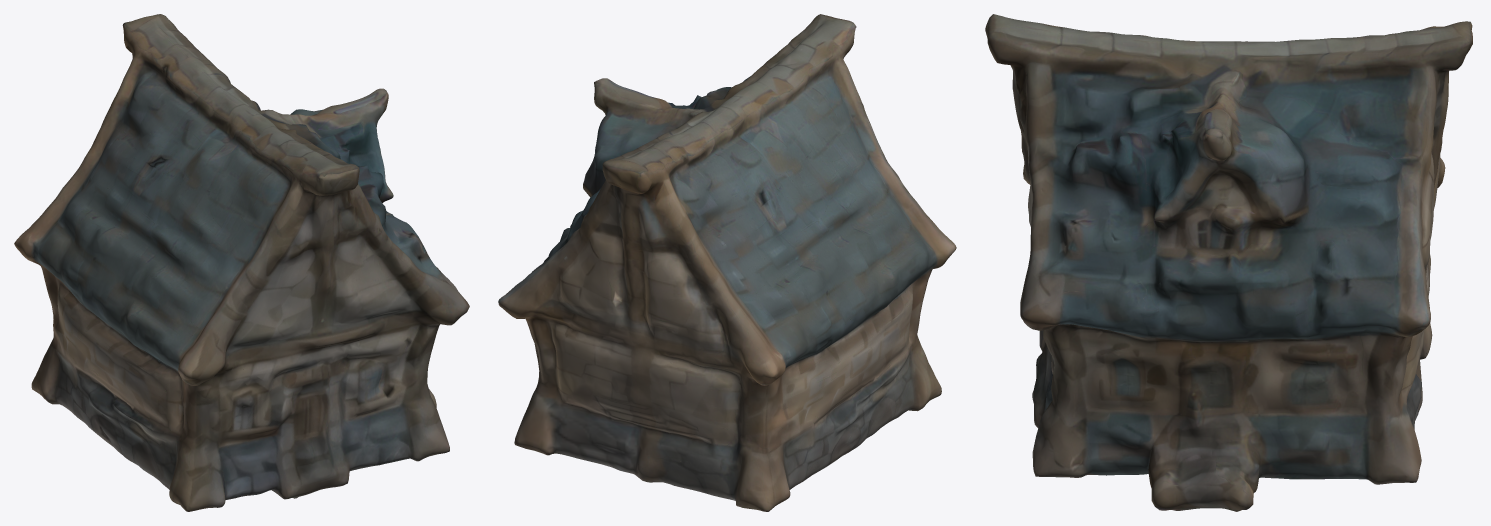
The model's file is house.fbx.
3 renders of one model, left to right at view 1: azimuth 30°, elevation 25°; view 2: azimuth 150°, elevation 25°; view 3: azimuth 270°, elevation 25°, orthographic. The views are drawn at different scales.
Parts seen in each view (by area): view 1: Mesh_0; view 2: Mesh_0; view 3: Mesh_0.
Boxes of the visible parts, bbox=[...] form: Mesh_0: bbox=[14, 14, 469, 511]; Mesh_0: bbox=[498, 14, 956, 511]; Mesh_0: bbox=[985, 14, 1472, 511].
Bounding box in the file's own units: 102 × 113 × 120.
1 material, 1 textured.
